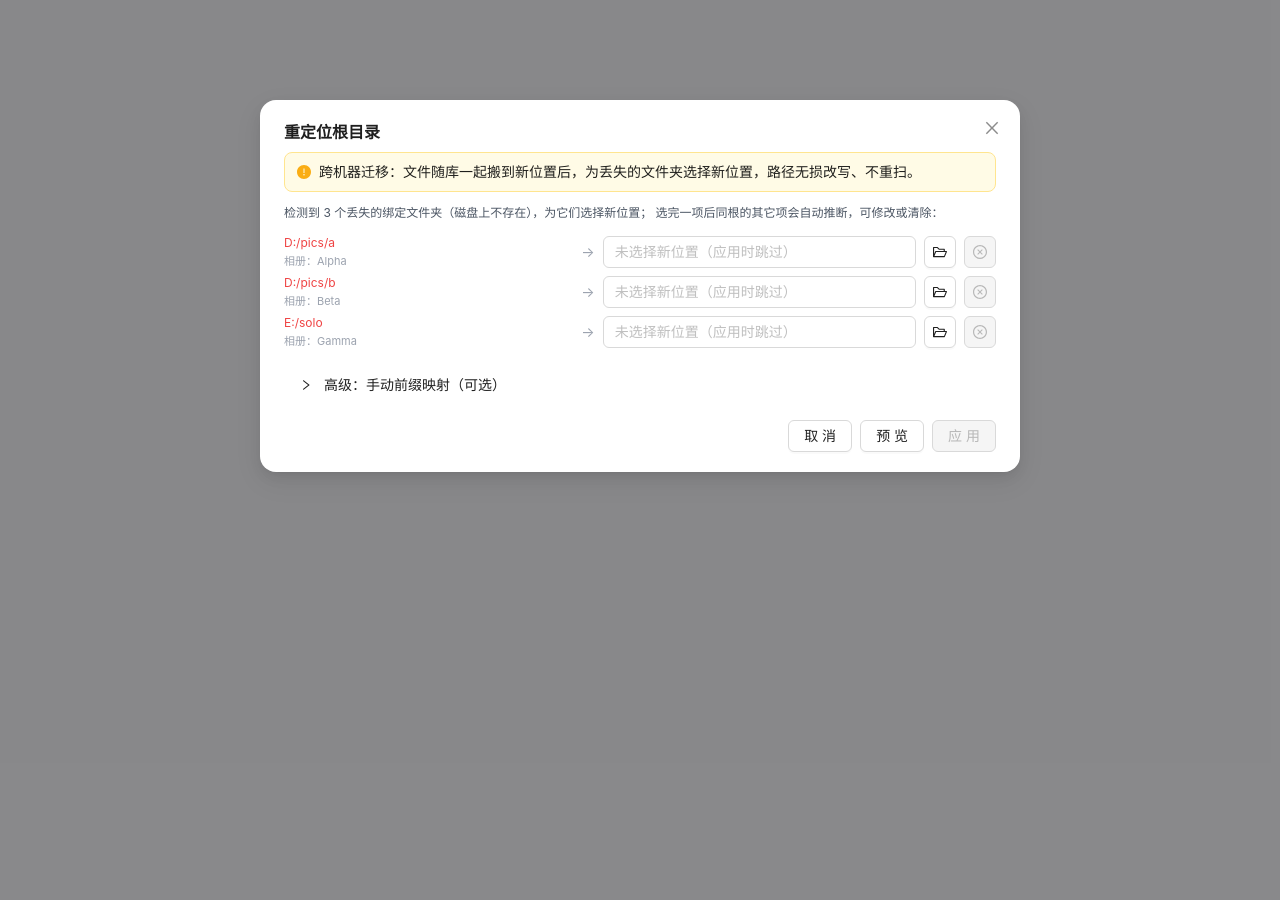
Test: RelocateRootModal › 丢失文件夹修复清单 › 为一项选择新位置后，同根其它项自动推断（带推断标记），不同根不受影响
The image size is (1280, 900).
expect the text "检测到 3 个丢失的绑定文件夹（磁盘上不存在），为它们选择新位置； 选完一项后同根的其它项会自动推断，可修改或清除：" is shown: met, box [284, 204, 996, 223]
# 列表按 oldPath 排序：D:/pics/a、D:/pics/b、E:/solo
Click the button named "选择新位置" in the row of "Alpha" at (940, 252), box [924, 236, 956, 268]
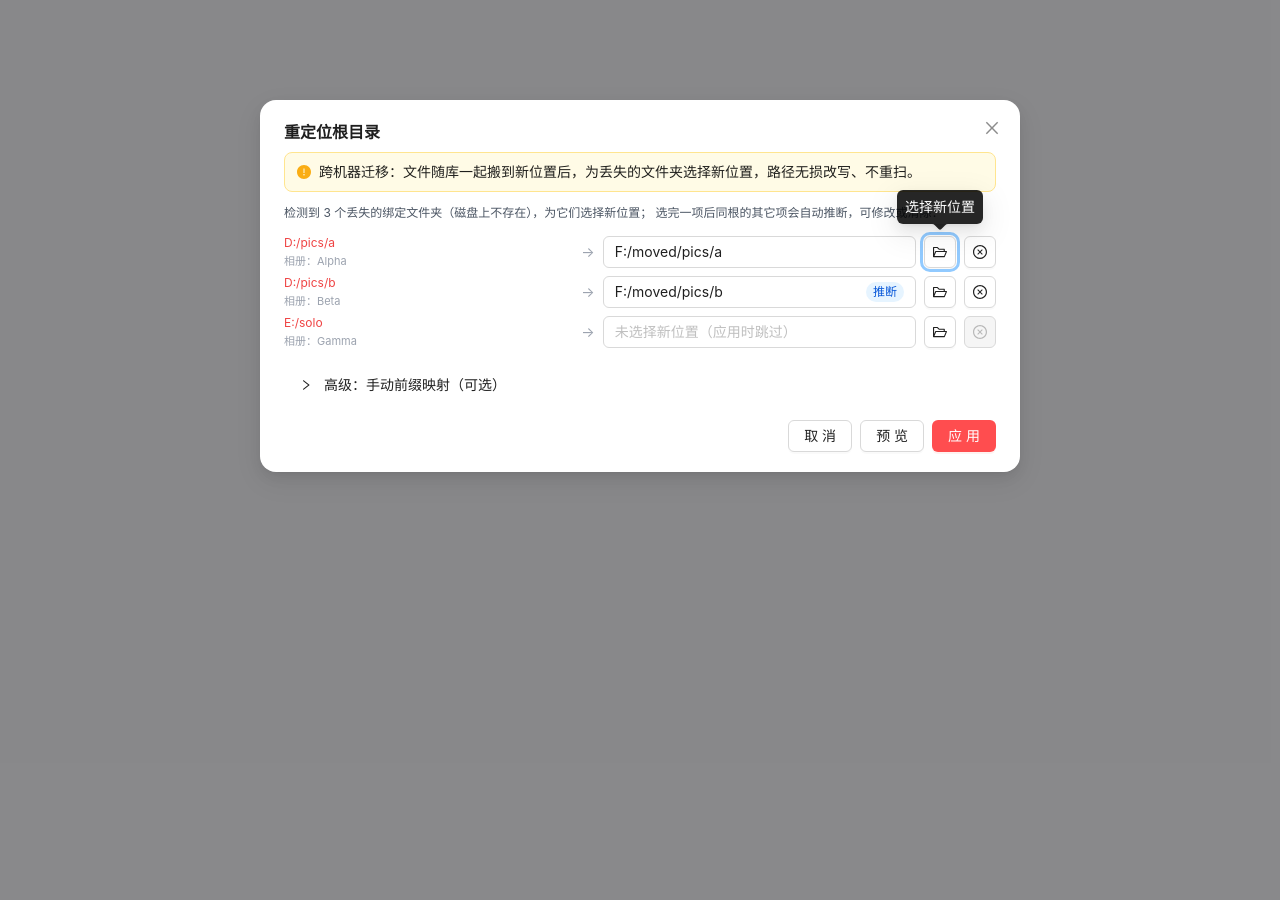
expect the field with placeholder "未选择新位置（应用时跳过）" in the row of "Alpha" holds "F:/moved/pics/a": met, box [603, 236, 916, 268]
expect the field with placeholder "未选择新位置（应用时跳过）" in the row of "Beta" holds "F:/moved/pics/b": met, box [615, 281, 862, 303]
expect the text "推断" is shown: met, box [866, 282, 904, 302]
